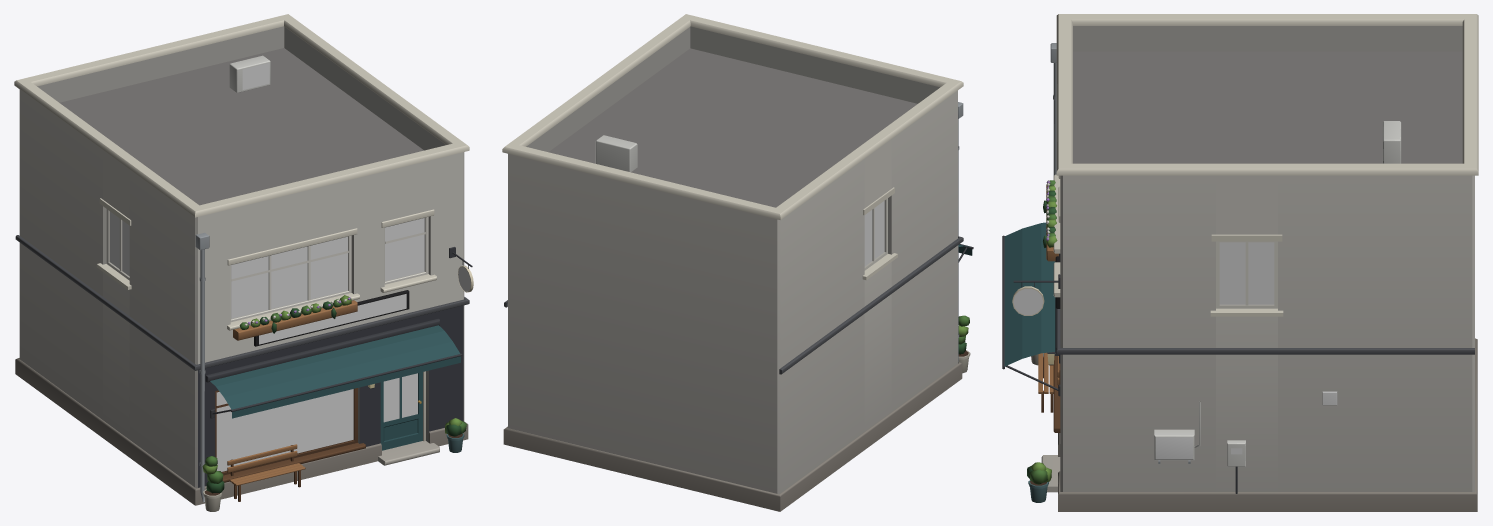
Rendered from ShopCafe.fbx.
The picture shows the model from 3 angles, left to right: view 1: azimuth 30°, elevation 25°; view 2: azimuth 150°, elevation 25°; view 3: azimuth 270°, elevation 25°; orthographic projection. The views are drawn at different scales.
Parts seen in each view (by area): view 1: ShopCafe; view 2: ShopCafe; view 3: ShopCafe.
Part boxes in pixels (x1=…): ShopCafe: x1=14, y1=14, x2=473, y2=511; ShopCafe: x1=502, y1=14, x2=973, y2=511; ShopCafe: x1=1002, y1=14, x2=1478, y2=511.
Size of the model in its own units: 7.43 by 7.3 by 9.19.
